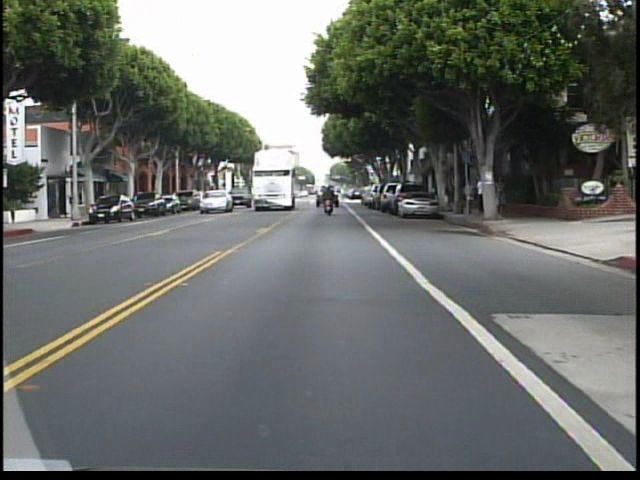person: (494, 173, 510, 221), (319, 181, 338, 220), (463, 175, 478, 217), (474, 175, 486, 218)
